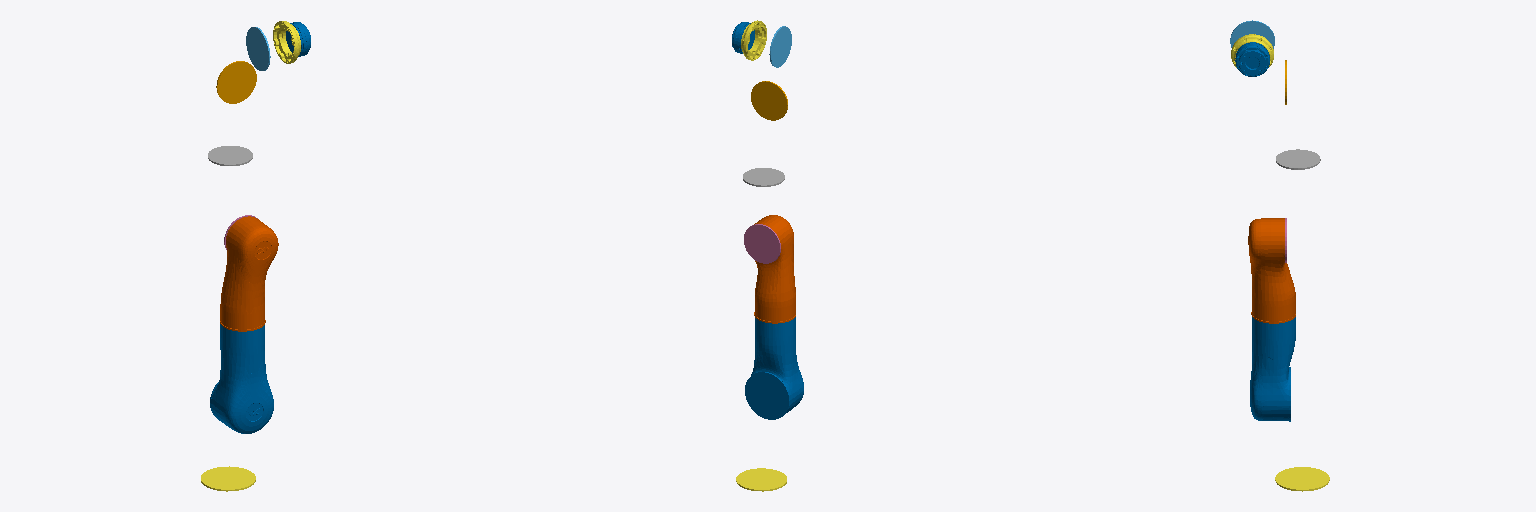
URDF robot description (Rizon4_FT03):
<?xml version="1.0"?>
<robot name="Rizon4_FT03">
  <joint name="arm_mount_joint" type="fixed">
    <origin rpy="0 0 0" xyz="0 0 0" />
    <parent link="world" />
    <child link="arm_adapter_base_link" />
  </joint>

  <!-- Arm Adapter -->
  <link name="arm_adapter_base_link">
    <inertial>
      <origin rpy="0 0 0" xyz="0 0 0" />
      <mass value="0" />
      <inertia ixx="0" ixy="0" ixz="0" iyy="0" iyz="0" izz="0" />
    </inertial>
  </link>

  <joint name="arm_adapter_joint" type="fixed">
    <origin rpy="0 0 0" xyz="0 0 0" />
    <parent link="arm_adapter_base_link" />
    <child link="base_link" />
  </joint>

  <!-- Rizon4 -->
  <joint name="joint1" type="revolute">
    <parent link="base_link" />
    <child link="link1" />
    <origin rpy="0.0 0.0 3.141592653589793" xyz="0.0 0.0 0.155" />
    <axis xyz="0 0 1" />
    <limit effort="123" lower="-2.8798" upper="2.8798" velocity="2.0944" />
    <safety_controller k_position="100.0" k_velocity="40.0" soft_lower_limit="-2.7925"
      soft_upper_limit="2.7925" />
  </joint>

  <joint name="joint2" type="revolute">
    <parent link="link1" />
    <child link="link2" />
    <origin rpy="0.0 0.0 0.0" xyz="0.0 0.03 0.21" />
    <axis xyz="0 1 0" />
    <limit effort="123" lower="-2.3562" upper="2.3562" velocity="2.0944" />
    <safety_controller k_position="100.0" k_velocity="40.0" soft_lower_limit="-2.2689"
      soft_upper_limit="2.2689" />
  </joint>

  <joint name="joint3" type="revolute">
    <parent link="link2" />
    <child link="link3" />
    <origin rpy="0.0 0.0 0.0" xyz="0.0 0.035 0.205" />
    <axis xyz="0 0 1" />
    <limit effort="64" lower="-3.0543" upper="3.0543" velocity="2.4435" />
    <safety_controller k_position="100.0" k_velocity="40.0" soft_lower_limit="-2.9671"
      soft_upper_limit="2.9671" />
  </joint>

  <joint name="joint4" type="revolute">
    <parent link="link3" />
    <child link="link4" />
    <origin rpy="0.0 0.0 3.141592653589793" xyz="-0.02 -0.03 0.19" />
    <axis xyz="0 1 0" />
    <limit effort="64" lower="-1.9548" upper="2.7751" velocity="2.4435" />
    <safety_controller k_position="100.0" k_velocity="40.0" soft_lower_limit="-1.8675"
      soft_upper_limit="2.6878" />
  </joint>

  <joint name="joint5" type="revolute">
    <parent link="link4" />
    <child link="link5" />
    <origin rpy="0.0 0.0 3.141592653589793" xyz="-0.02 0.025 0.195" />
    <axis xyz="0 0 1" />
    <limit effort="39" lower="-3.0543" upper="3.0543" velocity="4.8869" />
    <safety_controller k_position="100.0" k_velocity="40.0" soft_lower_limit="-2.9671"
      soft_upper_limit="2.9671" />
  </joint>

  <joint name="joint6" type="revolute">
    <parent link="link5" />
    <child link="link6" />
    <origin rpy="0.0 0.0 0.0" xyz="0.0 0.03 0.19" />
    <axis xyz="0 1 0" />
    <limit effort="39" lower="-1.4835" upper="4.6251" velocity="4.8869" />
    <safety_controller k_position="100.0" k_velocity="40.0" soft_lower_limit="-1.3963"
      soft_upper_limit="4.5379" />
  </joint>

  <joint name="joint7" type="revolute">
    <parent link="link6" />
    <child link="link7" />
    <origin rpy="0.0 -1.5707963267948966 0.0" xyz="-0.015 0.073 0.11" />
    <axis xyz="0 0 1" />
    <limit effort="39" lower="-3.0543" upper="3.0543" velocity="4.8869" />
    <safety_controller k_position="100.0" k_velocity="40.0" soft_lower_limit="-2.9671"
      soft_upper_limit="2.9671" />
  </joint>

  <joint name="link7_to_flange" type="fixed">
    <parent link="link7" />
    <child link="wrist-sensor.base_link" />
    <origin rpy="0.0 0.0 3.141592653589793" xyz="0.0 0.0 0.081" />
  </joint>

  <link name="world">
  </link>

  <link name="base_link">
    <inertial>
      <mass value="3.8" />
      <origin rpy="0 0 0" xyz="0.0 -0.0 0.09" />
      <inertia ixx="0.02" ixy="0.0" ixz="0.0" iyy="0.02" iyz="0.0" izz="0.01" />
    </inertial>
    <visual name="shell">
      <origin rpy="0 0 0" xyz="0 0 0" />
      <geometry>
        <mesh filename="package://flexiv_description/meshes/Rizon4/visual/link0.obj" />
      </geometry>
    </visual>
    <collision name="convex_mesh">
      <origin xyz="0 0 0" rpy="0 0 0" />
      <geometry>
        <mesh filename="package://flexiv_description/meshes/Rizon4/collision/link0.stl" />
      </geometry>
    </collision>
    <workspace>
      <origin rpy="0 0 0" xyz="0 0 0.365" />
      <geometry>
        <sphere radius="0.890" />
      </geometry>
    </workspace>
  </link>

  <link name="link1">
    <inertial>
      <mass value="3.6" />
      <origin rpy="0 0 0" xyz="0.0 0.0 0.15" />
      <inertia ixx="0.03" ixy="0.0" ixz="0.0" iyy="0.03" iyz="0.0" izz="0.01" />
    </inertial>
    <visual name="shell">
      <origin rpy="0 0 0" xyz="0 0 0" />
      <geometry>
        <mesh filename="package://flexiv_description/meshes/Rizon4/visual/link1.obj" />
      </geometry>
    </visual>
    <visual name="ring">
      <origin rpy="0 0 0" xyz="0 0 -0.0025" />
      <geometry>
        <mesh filename="package://flexiv_description/meshes/Rizon4/visual/ring.obj"
          scale="0.062 0.062 0.002" />
      </geometry>
    </visual>
    <collision name="convex_mesh">
      <origin xyz="0 0 0" rpy="0 0 0" />
      <geometry>
        <mesh filename="package://flexiv_description/meshes/Rizon4/collision/link1.stl" />
      </geometry>
    </collision>
  </link>

  <link name="link2">
    <inertial>
      <mass value="2.7" />
      <origin rpy="0 0 0" xyz="-0.0 0.04 0.1" />
      <inertia ixx="0.02" ixy="0.0" ixz="0.0" iyy="0.02" iyz="-0.0003" izz="0.004" />
    </inertial>
    <visual name="shell">
      <origin rpy="0 0 0" xyz="0 0 0" />
      <geometry>
        <mesh filename="package://flexiv_description/meshes/Rizon4/visual/link2.obj" />
      </geometry>
    </visual>
    <visual name="ring">
      <origin rpy="1.5707963 0 0" xyz="0 -0.0025 0" />
      <geometry>
        <mesh filename="package://flexiv_description/meshes/Rizon4/visual/ring.obj"
          scale="0.062 0.062 0.002" />
      </geometry>
    </visual>
    <collision name="convex_mesh">
      <origin xyz="0 0 0" rpy="0 0 0" />
      <geometry>
        <mesh filename="package://flexiv_description/meshes/Rizon4/collision/link2.stl" />
      </geometry>
    </collision>
  </link>

  <link name="link3">
    <inertial>
      <mass value="2.4" />
      <origin rpy="0 0 0" xyz="-0.01 -0.0 0.14" />
      <inertia ixx="0.01" ixy="0.0" ixz="-0.001" iyy="0.01" iyz="-0.0007" izz="0.004" />
    </inertial>
    <visual name="shell">
      <origin rpy="0 0 0" xyz="0 0 0" />
      <geometry>
        <mesh filename="package://flexiv_description/meshes/Rizon4/visual/link3.obj" />
      </geometry>
    </visual>
    <visual name="ring">
      <origin rpy="0 0 0" xyz="0 0 -0.0025" />
      <geometry>
        <mesh filename="package://flexiv_description/meshes/Rizon4/visual/ring.obj"
          scale="0.051 0.051 0.002" />
      </geometry>
    </visual>
    <collision name="convex_mesh">
      <origin xyz="0 0 0" rpy="0 0 0" />
      <geometry>
        <mesh filename="package://flexiv_description/meshes/Rizon4/collision/link3.stl" />
      </geometry>
    </collision>
  </link>

  <link name="link4">
    <inertial>
      <mass value="2.4" />
      <origin rpy="0 0 0" xyz="-0.01 0.03 0.1" />
      <inertia ixx="0.02" ixy="0.0" ixz="-0.002" iyy="0.02" iyz="-0.001" izz="0.003" />
    </inertial>
    <visual name="shell">
      <origin rpy="0 0 0" xyz="0 0 0" />
      <geometry>
        <mesh filename="package://flexiv_description/meshes/Rizon4/visual/link4.obj" />
      </geometry>
    </visual>
    <visual name="ring">
      <origin rpy="1.5707963 0 0" xyz="0 -0.0025 0" />
      <geometry>
        <mesh filename="package://flexiv_description/meshes/Rizon4/visual/ring.obj"
          scale="0.051 0.051 0.002" />
      </geometry>
    </visual>
    <collision name="convex_mesh">
      <origin xyz="0 0 0" rpy="0 0 0" />
      <geometry>
        <mesh filename="package://flexiv_description/meshes/Rizon4/collision/link4.stl" />
      </geometry>
    </collision>
  </link>

  <link name="link5">
    <inertial>
      <mass value="2.3" />
      <origin rpy="0 0 0" xyz="0.0 0.0 0.14" />
      <inertia ixx="0.01" ixy="0.0" ixz="0.0" iyy="0.01" iyz="0.001" izz="0.004" />
    </inertial>
    <visual name="shell">
      <origin rpy="0 0 0" xyz="0 0 0" />
      <geometry>
        <mesh filename="package://flexiv_description/meshes/Rizon4/visual/link5.obj" />
      </geometry>
    </visual>
    <visual name="ring">
      <origin rpy="0 0 0" xyz="0 0 -0.0025" />
      <geometry>
        <mesh filename="package://flexiv_description/meshes/Rizon4/visual/ring.obj"
          scale="0.051 0.051 0.002" />
      </geometry>
    </visual>
    <collision name="convex_mesh">
      <origin xyz="0 0 0" rpy="0 0 0" />
      <geometry>
        <mesh filename="package://flexiv_description/meshes/Rizon4/collision/link5.stl" />
      </geometry>
    </collision>
  </link>

  <link name="link6">
    <inertial>
      <mass value="2.2" />
      <origin rpy="0 0 0" xyz="0.02 0.06 0.07" />
      <inertia ixx="0.01" ixy="0.0" ixz="-0.001" iyy="0.01" iyz="0.002" izz="0.004" />
    </inertial>
    <visual name="shell">
      <origin rpy="0 0 0" xyz="0 0 0" />
      <geometry>
        <mesh filename="package://flexiv_description/meshes/Rizon4/visual/link6.obj" />
      </geometry>
    </visual>
    <visual name="ring">
      <origin rpy="1.5707963 0 0" xyz="0 -0.0025 0" />
      <geometry>
        <mesh filename="package://flexiv_description/meshes/Rizon4/visual/ring.obj"
          scale="0.051 0.051 0.002" />
      </geometry>
    </visual>
    <collision name="convex_mesh">
      <origin xyz="0 0 0" rpy="0 0 0" />
      <geometry>
        <mesh filename="package://flexiv_description/meshes/Rizon4/collision/link6.stl" />
      </geometry>
    </collision>
  </link>

  <link name="link7">
    <inertial>
      <mass value="0.8" />
      <origin rpy="0 0 0" xyz="0.0 0.0 0.03" />
      <inertia ixx="0.001" ixy="0.0" ixz="0.0" iyy="0.001" iyz="0.0" izz="0.001" />
    </inertial>
    <visual name="shell">
      <origin rpy="0 0 0" xyz="0 0 0" />
      <geometry>
        <mesh filename="package://flexiv_description/meshes/Rizon4/visual/link7.obj" />
      </geometry>
    </visual>
    <visual name="ring">
      <origin rpy="0 0 0" xyz="0 0 -0.0025" />
      <geometry>
        <mesh filename="package://flexiv_description/meshes/Rizon4/visual/ring.obj"
          scale="0.051 0.051 0.002" />
      </geometry>
    </visual>
    <collision name="convex_mesh">
      <origin xyz="0 0 0" rpy="0 0 0" />
      <geometry>
        <mesh filename="package://flexiv_description/meshes/Rizon4/collision/link7.stl" />
      </geometry>
    </collision>
  </link>

  <!-- FT03-D1 wrist sensor -->
  <joint name="wrist-sensor.remove_A02L_flange_body" type="fixed">
    <origin rpy="0 0 0" xyz="0 0 -0.016" />
    <parent link="wrist-sensor.base_link" />
    <child link="wrist-sensor.proximal_link" />
    <axis xyz="0 0 1" />
  </joint>

  <joint name="wrist-sensor.proximal_link_to_sensing_frame" type="fixed">
    <origin rpy="0 0 0" xyz="0 0 0.0235" />
    <parent link="wrist-sensor.proximal_link" />
    <child link="wrist-sensor.distal_link" />
    <axis xyz="0 0 1" />
  </joint>

  <joint name="wrist-sensor.sensing_frame_to_flange" type="fixed">
    <parent link="wrist-sensor.distal_link" />
    <child link="flange" />
    <origin rpy="0 0 0" xyz="0.0 0.0 0.0285" />
  </joint>

  <link name="wrist-sensor.base_link">
    <inertial>
      <mass value="0.0" />
      <origin rpy="0 0 0" xyz="0.0 0.0 0.0" />
      <inertia ixx="0.0" ixy="0.0" ixz="0.0" iyy="0.0" iyz="0.0" izz="0.0" />
    </inertial>
  </link>

  <link name="wrist-sensor.proximal_link">
    <inertial>
      <origin rpy="0 0 0" xyz="0 0 0.01955" />
      <mass value="0.149" />
      <inertia ixx="0.0" ixy="0.0" ixz="0.0" iyy="0.0" iyz="0.0" izz="0.0" />
    </inertial>
    <visual name="shell">
      <origin rpy="0 0 0" xyz="0 0 0" />
      <geometry>
        <mesh filename="package://flexiv_description/meshes/FT03-D1/visual/proximal.obj"
          scale="1 1 1" />
      </geometry>
    </visual>
    <collision name="convex_mesh">
      <origin xyz="0 0 0" rpy="0 0 0" />
      <geometry>
        <mesh filename="package://flexiv_description/meshes/FT03-D1/collision/proximal.stl" />
      </geometry>
    </collision>
  </link>

  <link name="wrist-sensor.distal_link">
    <inertial>
      <mass value="0.249" />
      <origin rpy="0 0 0" xyz="0 0 0.0085" />
      <inertia ixx="1.05E-4" ixy="0" ixz="0" iyy="1.05E-4" iyz="-0" izz="1.81E-4" />
    </inertial>
    <visual name="shell">
      <origin rpy="0 0 0" xyz="0 0 0" />
      <geometry>
        <mesh filename="package://flexiv_description/meshes/FT03-D1/visual/distal.obj" />
      </geometry>
    </visual>
    <visual name="ring">
      <origin rpy="0 0 0" xyz="0 0 0" />
      <geometry>
        <mesh filename="package://flexiv_description/meshes/FT03-D1/visual/ring.obj"
          scale="0.039 0.039 0.002" />
      </geometry>
    </visual>
    <collision name="convex_mesh">
      <origin xyz="0 0 0" rpy="0 0 0" />
      <geometry>
        <mesh filename="package://flexiv_description/meshes/FT03-D1/collision/distal.stl" />
      </geometry>
    </collision>
  </link>

  <link name="flange">
    <inertial>
      <mass value="0.0" />
      <origin rpy="0 0 0" xyz="0.0 0.0 0.0" />
      <inertia ixx="0.0" ixy="0.0" ixz="0.0" iyy="0.0" iyz="0.0" izz="0.0" />
    </inertial>
  </link>

</robot>

--- Facts derived from the render (not from the file) ---
3 views of the same robot in one strip: view 1: azimuth 30°, elevation 25°; view 2: azimuth 150°, elevation 25°; view 3: azimuth 270°, elevation 25° (orthographic).
Robot: Rizon4_FT03 — 14 links, 13 joints (7 revolute, 6 fixed); root link world; default pose: all joints at 0.
Links seen in each view (by area): view 1: link2, link3, link6, link1, wrist-sensor.proximal_link, link7, link5; view 2: link2, link3, link4, link6, link1, wrist-sensor.proximal_link, link7, link5; view 3: link3, link2, link1, wrist-sensor.distal_link, link5, link7.
Link boxes in pixels (x1=…): link2: x1=210, y1=324, x2=273, y2=433; link3: x1=220, y1=216, x2=278, y2=331; link6: x1=216, y1=61, x2=256, y2=103; link1: x1=201, y1=466, x2=255, y2=491; wrist-sensor.proximal_link: x1=273, y1=21, x2=300, y2=63; link7: x1=246, y1=27, x2=270, y2=70; link5: x1=208, y1=146, x2=252, y2=165; link2: x1=745, y1=317, x2=803, y2=419; link3: x1=754, y1=215, x2=795, y2=323; link4: x1=744, y1=224, x2=780, y2=263; link6: x1=751, y1=81, x2=787, y2=120; link1: x1=736, y1=468, x2=786, y2=491; wrist-sensor.proximal_link: x1=741, y1=20, x2=766, y2=60; link7: x1=769, y1=26, x2=791, y2=67; link5: x1=743, y1=168, x2=784, y2=186; link3: x1=1248, y1=218, x2=1295, y2=323; link2: x1=1250, y1=317, x2=1295, y2=421; link1: x1=1275, y1=467, x2=1329, y2=491; wrist-sensor.distal_link: x1=1235, y1=42, x2=1269, y2=76; link5: x1=1276, y1=149, x2=1320, y2=169; link7: x1=1230, y1=20, x2=1274, y2=48.
Bounding box of the posed robot: 0.194 × 0.226 × 1.16 m (x, y, z).
12 mesh visuals loaded from 12 distinct referenced files (5 OBJ); not drawn: 6 (reference not matched to a file when rendering).
